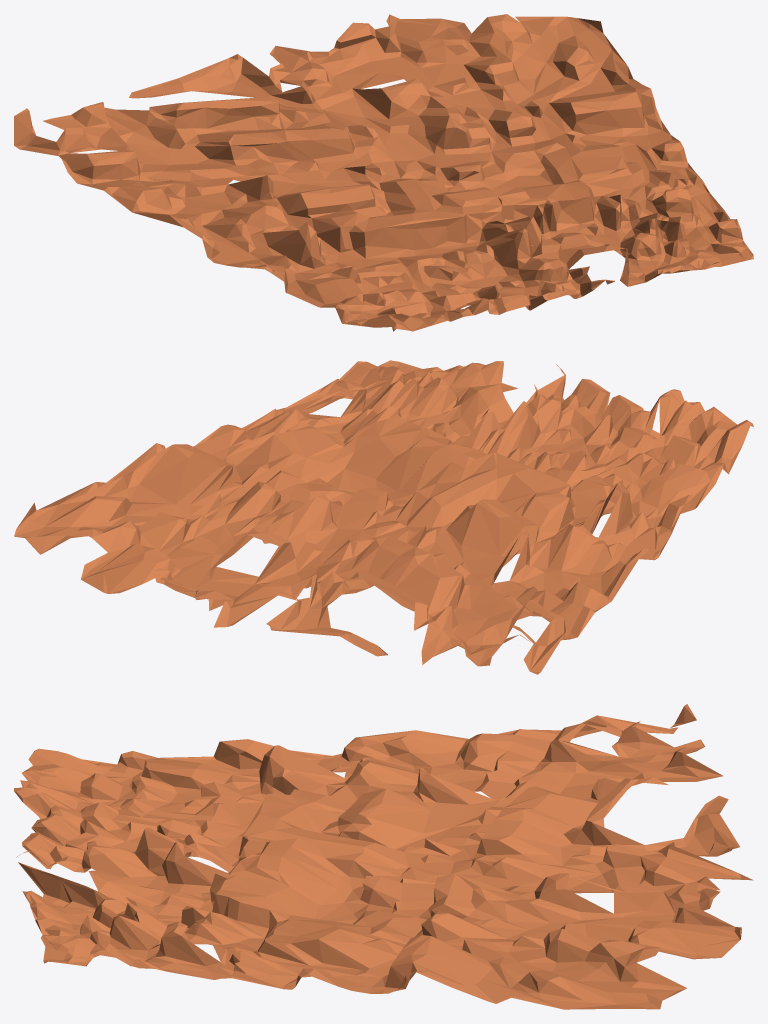
3 renders of one model, top to bottom at view 1: azimuth 30°, elevation 25°; view 2: azimuth 150°, elevation 25°; view 3: azimuth 270°, elevation 25°, orthographic. The views are drawn at different scales.
Parts seen in each view (by area): view 1: geometry_0; view 2: geometry_0; view 3: geometry_0.
Boxes of the visible parts, <box> form: geometry_0: <box>14,14,753,331</box>; geometry_0: <box>14,360,753,674</box>; geometry_0: <box>14,704,753,1009</box>.
Bounding box in the file's own units: 13.51 × 1.01 × 14.68.
